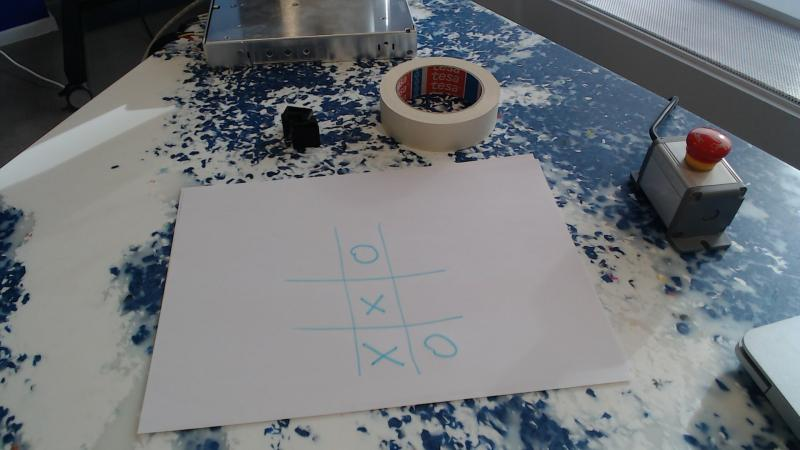O: (421, 329, 461, 363), (347, 239, 382, 266)
X: (364, 337, 404, 374), (355, 290, 389, 317)
grid: (268, 224, 479, 383)
